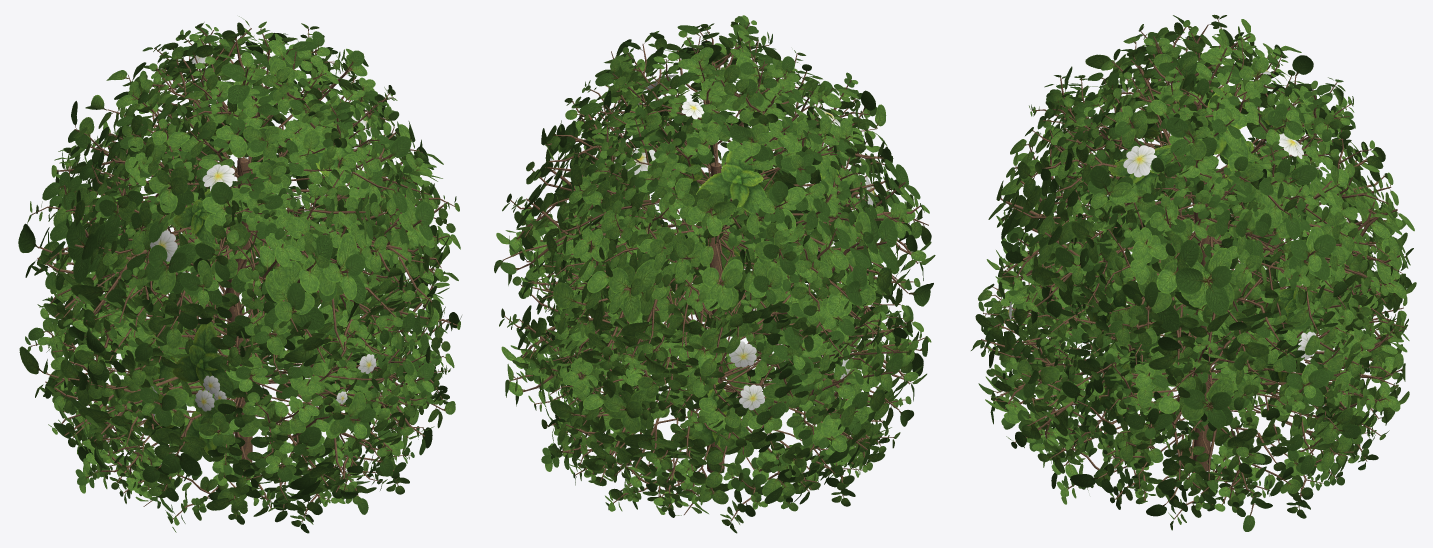
Rendered from Shrub.glb.
3 renders of one model, left to right at view 1: azimuth 30°, elevation 25°; view 2: azimuth 150°, elevation 25°; view 3: azimuth 270°, elevation 25°, orthographic. The views are drawn at different scales.
Parts seen in each view (by area): view 1: shrub_leaves.2, shrub.3; view 2: shrub_leaves.2, shrub.3; view 3: shrub_leaves.2, shrub.3.
Boxes of the visible parts, bbox=[...] form: shrub_leaves.2: bbox=[18, 16, 461, 533]; shrub.3: bbox=[30, 28, 457, 521]; shrub_leaves.2: bbox=[494, 15, 935, 533]; shrub.3: bbox=[503, 23, 928, 521]; shrub_leaves.2: bbox=[971, 14, 1416, 531]; shrub.3: bbox=[981, 19, 1406, 519].
Bounding box in the file's own units: 0.7334 × 0.8141 × 0.7671.
2 materials, 2 textured.
